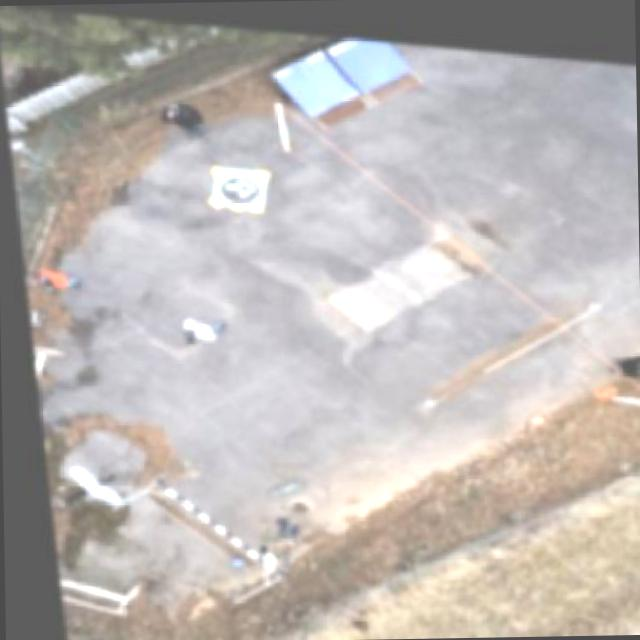Person: (151, 85, 213, 143), (162, 299, 226, 345), (594, 332, 639, 371)
